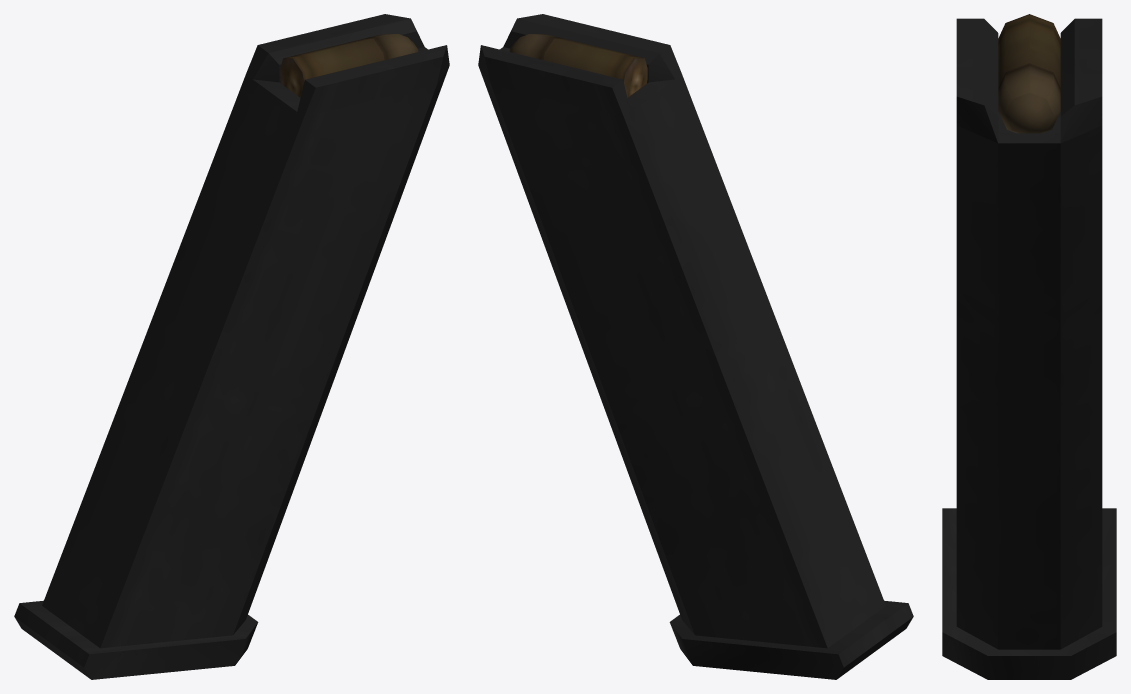
The model's file is pistol_mp_1_mag_loaded.obj.
3 renders of one model, left to right at view 1: azimuth 30°, elevation 25°; view 2: azimuth 150°, elevation 25°; view 3: azimuth 270°, elevation 25°, orthographic. The views are drawn at different scales.
Parts seen in each view (by area): view 1: pistol_mp_1_mag_loaded; view 2: pistol_mp_1_mag_loaded; view 3: pistol_mp_1_mag_loaded.
Part boxes in pixels (<box>): pistol_mp_1_mag_loaded: <box>14,14,449,679</box>; pistol_mp_1_mag_loaded: <box>478,14,913,679</box>; pistol_mp_1_mag_loaded: <box>942,14,1116,679</box>.
Size of the model in its own units: 3.69 by 5.12 by 1.15.
2 materials, 2 textured.
